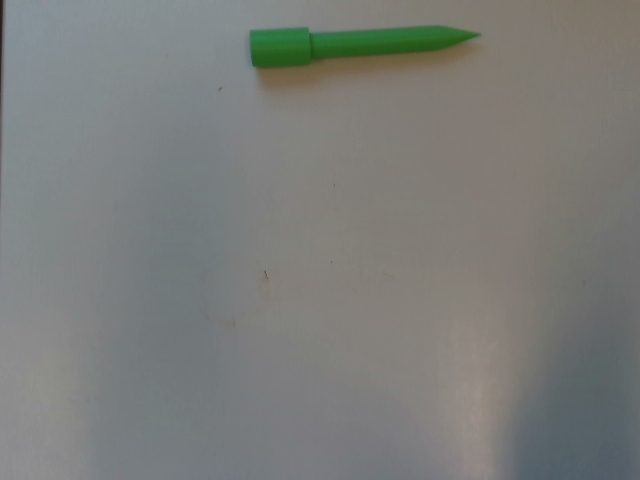Probe: (245, 21, 486, 72)
